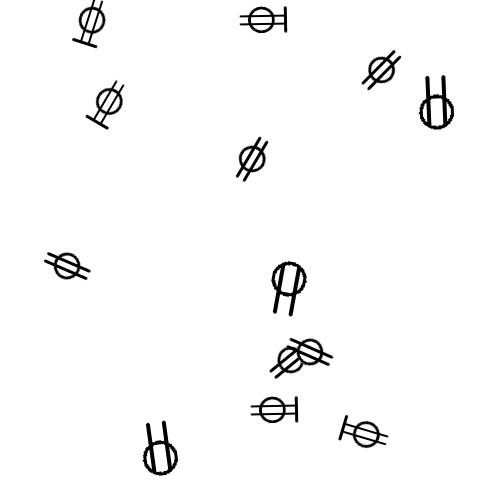Duplex-Receptacle: (130, 432, 189, 468), (407, 86, 466, 122), (258, 269, 317, 305), (248, 394, 300, 427), (339, 417, 391, 450), (237, 4, 289, 37), (65, 5, 117, 38), (82, 86, 134, 119), (264, 346, 317, 377), (355, 56, 408, 87), (226, 145, 279, 176), (282, 337, 335, 368), (42, 250, 95, 281)
